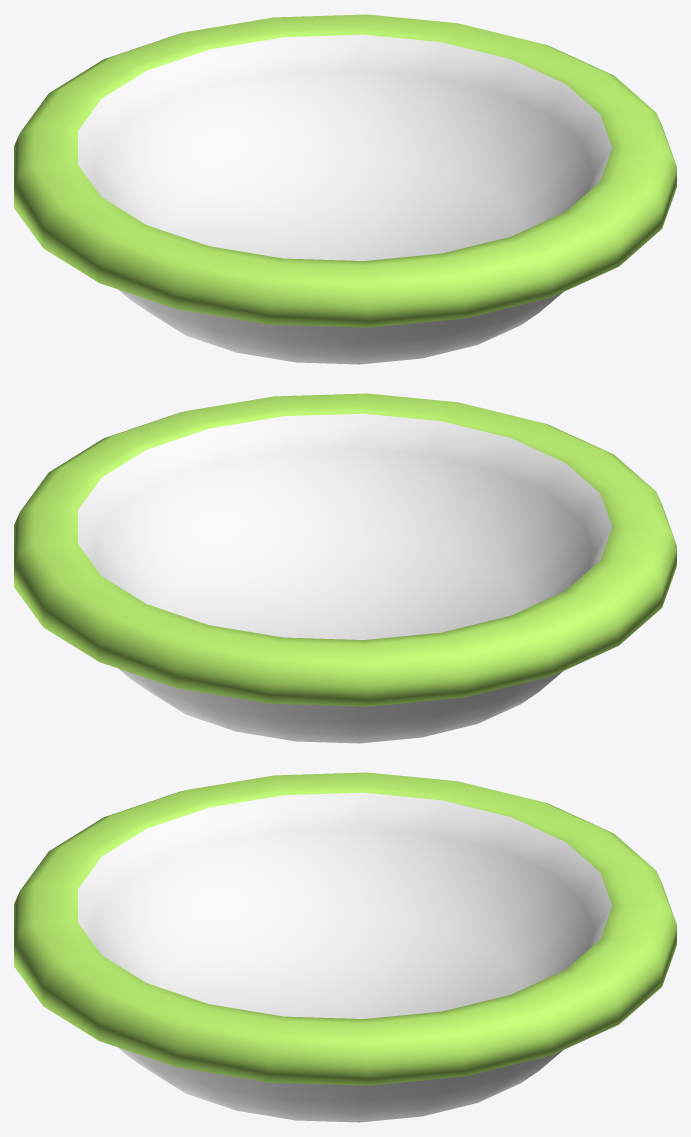
File: Bowl_Food.glb
3 renders of one model, top to bottom at view 1: azimuth 30°, elevation 25°; view 2: azimuth 150°, elevation 25°; view 3: azimuth 270°, elevation 25°, orthographic.
Parts seen in each view (by area): view 1: Bowl_Food; view 2: Bowl_Food; view 3: Bowl_Food.
Boxes of the visible parts, x1,y1,x2,y2 form: Bowl_Food: (14,14,676,364); Bowl_Food: (14,393,676,743); Bowl_Food: (14,772,676,1122).
Bounding box in the file's own units: 0.1193 × 0.0272 × 0.119.
1 material, 1 textured.
